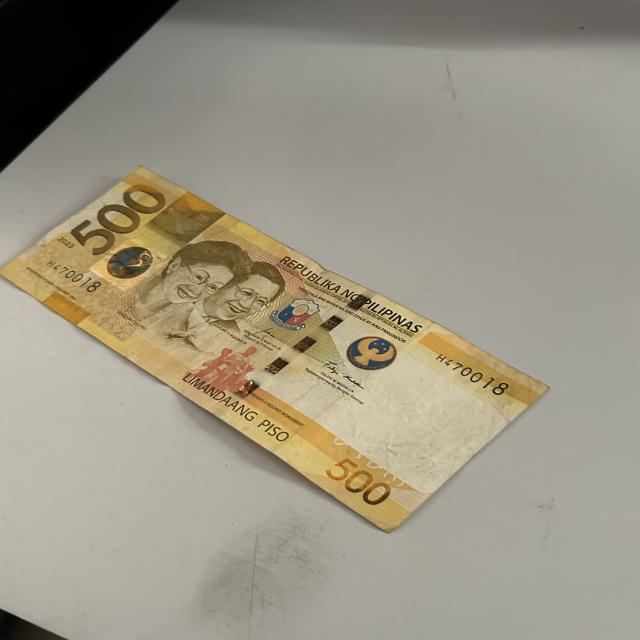concealed_value: (142, 202, 206, 242)
optically_variable_device: (104, 239, 164, 278)
see_through_mark: (330, 442, 410, 484)
